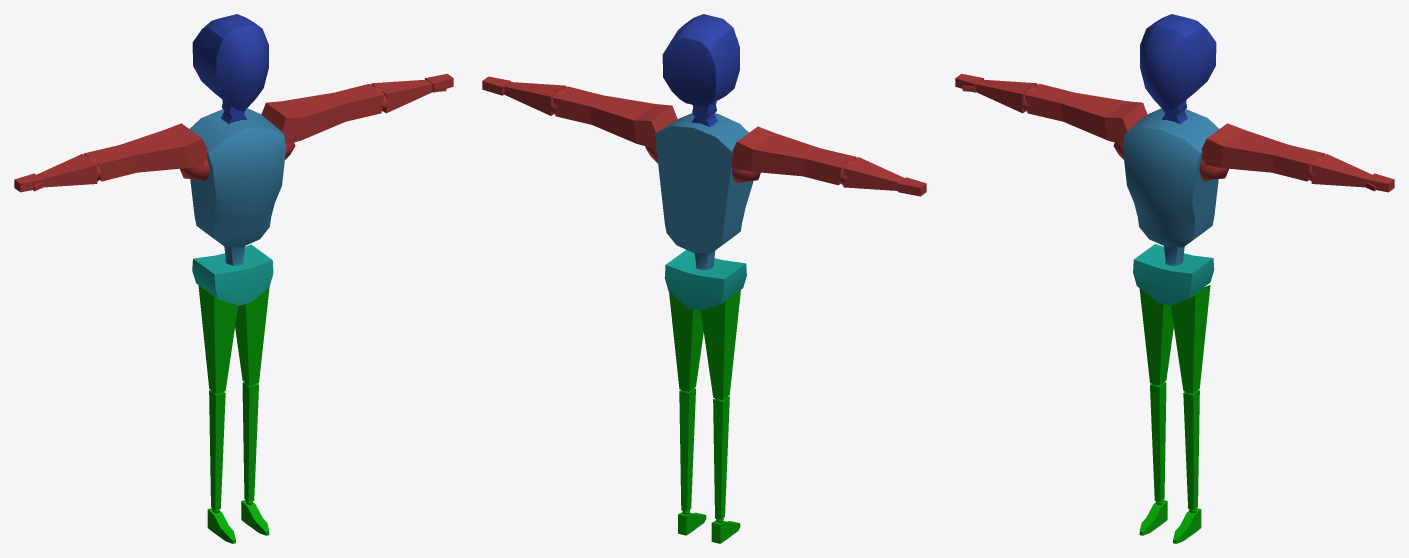
File: mannequin.fbx
3 renders of one model, left to right at view 1: azimuth 30°, elevation 25°; view 2: azimuth 150°, elevation 25°; view 3: azimuth 330°, elevation 25°, orthographic.
Visible parts, largest first — view 1: arms, torso, legs, head, hip; view 2: arms, torso, legs, head, hip; view 3: arms, torso, legs, head, hip.
Boxes of the visible parts, x1=… form: arms: x1=14, y1=73, x2=453, y2=192; torso: x1=190, y1=108, x2=285, y2=265; legs: x1=198, y1=285, x2=269, y2=543; head: x1=192, y1=14, x2=268, y2=124; hip: x1=192, y1=244, x2=273, y2=305; arms: x1=482, y1=76, x2=926, y2=196; torso: x1=655, y1=113, x2=753, y2=270; legs: x1=669, y1=290, x2=740, y2=543; head: x1=662, y1=14, x2=739, y2=126; hip: x1=664, y1=249, x2=746, y2=310; arms: x1=955, y1=73, x2=1394, y2=192; torso: x1=1123, y1=108, x2=1218, y2=265; legs: x1=1139, y1=285, x2=1210, y2=543; head: x1=1140, y1=14, x2=1216, y2=124; hip: x1=1133, y1=244, x2=1214, y2=305.
Size of the model in its own units: 171 by 191 by 24.66.
